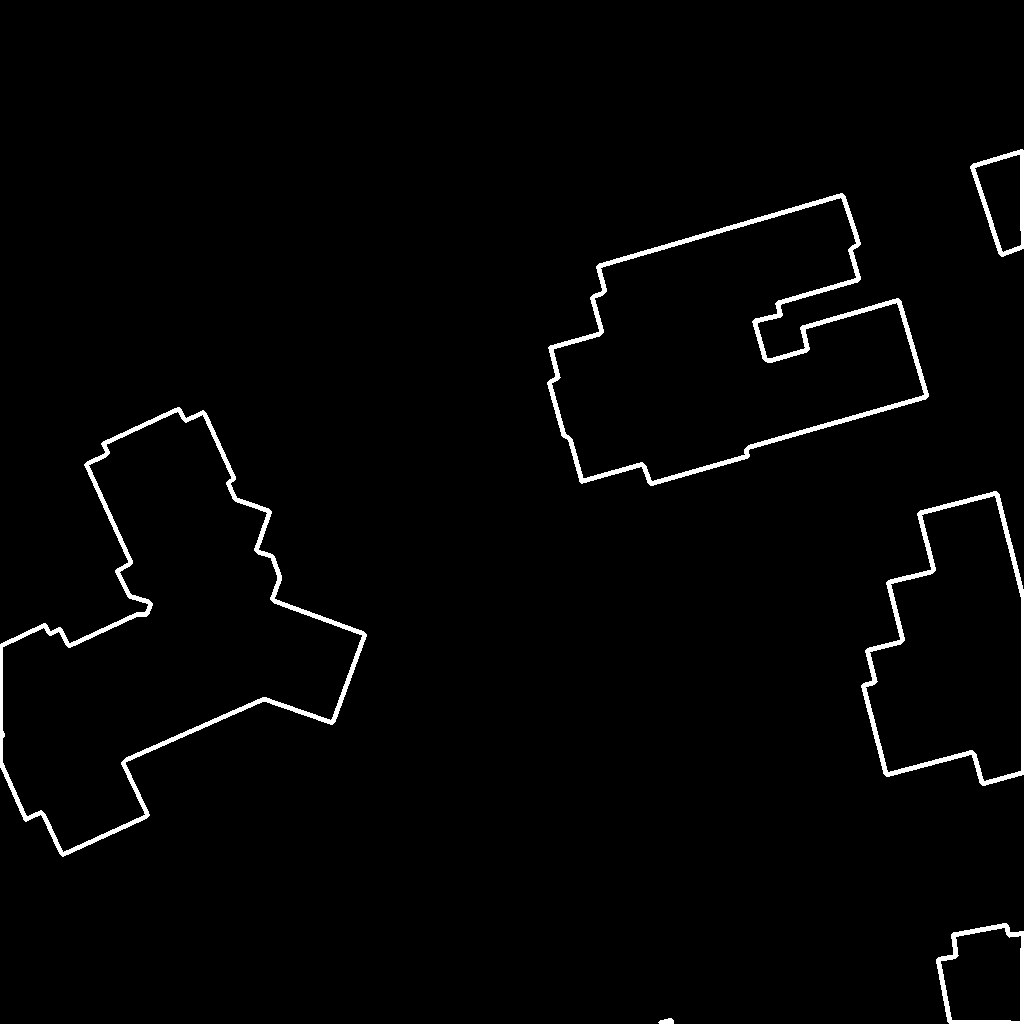building: (0, 409, 366, 856), (549, 195, 928, 485), (863, 493, 1024, 785), (938, 925, 1024, 1024), (972, 151, 1024, 256), (658, 1020, 673, 1024)
